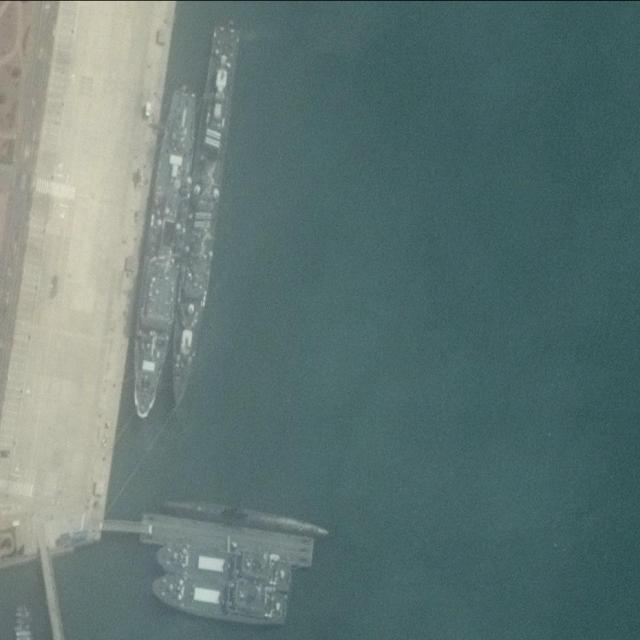Destroyer: (160, 23, 242, 410)
Landing: (147, 572, 292, 630), (151, 542, 292, 595)
Other Warship: (125, 87, 203, 421)
Submarine: (153, 494, 333, 544)
